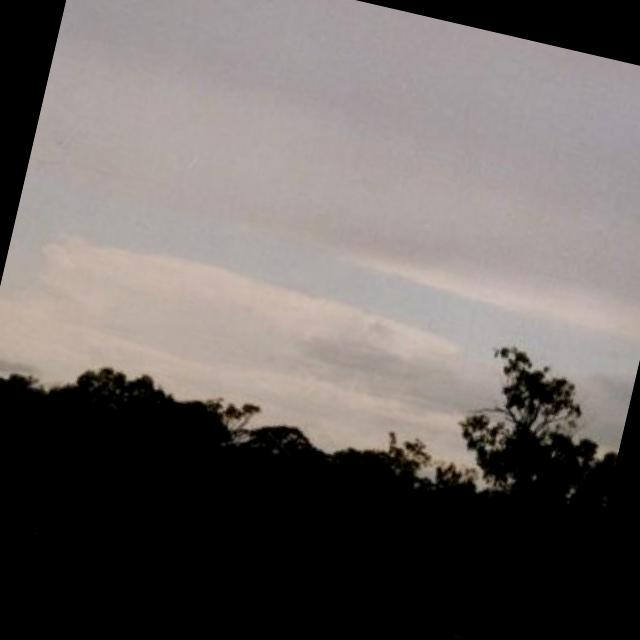nimbostratus: (19, 0, 640, 344)
